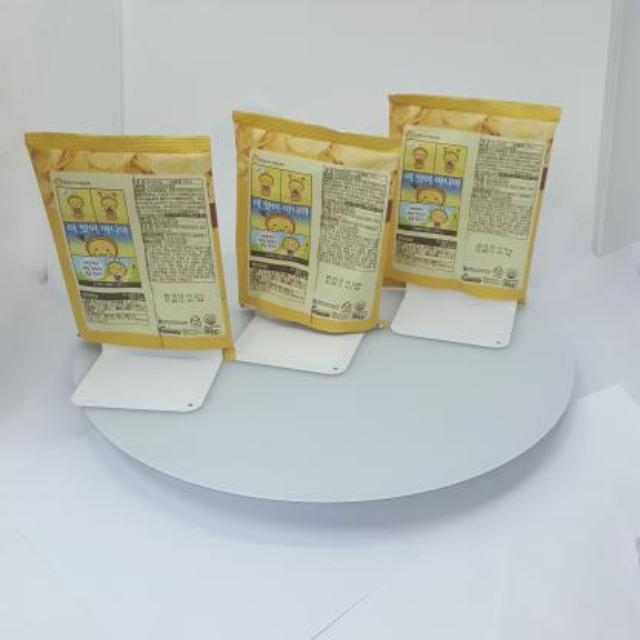snack_bag: (16, 80, 576, 376)
